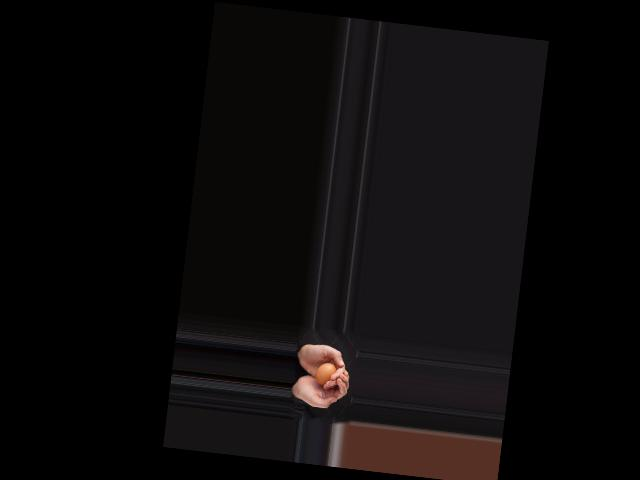egg: (314, 361, 336, 387)
